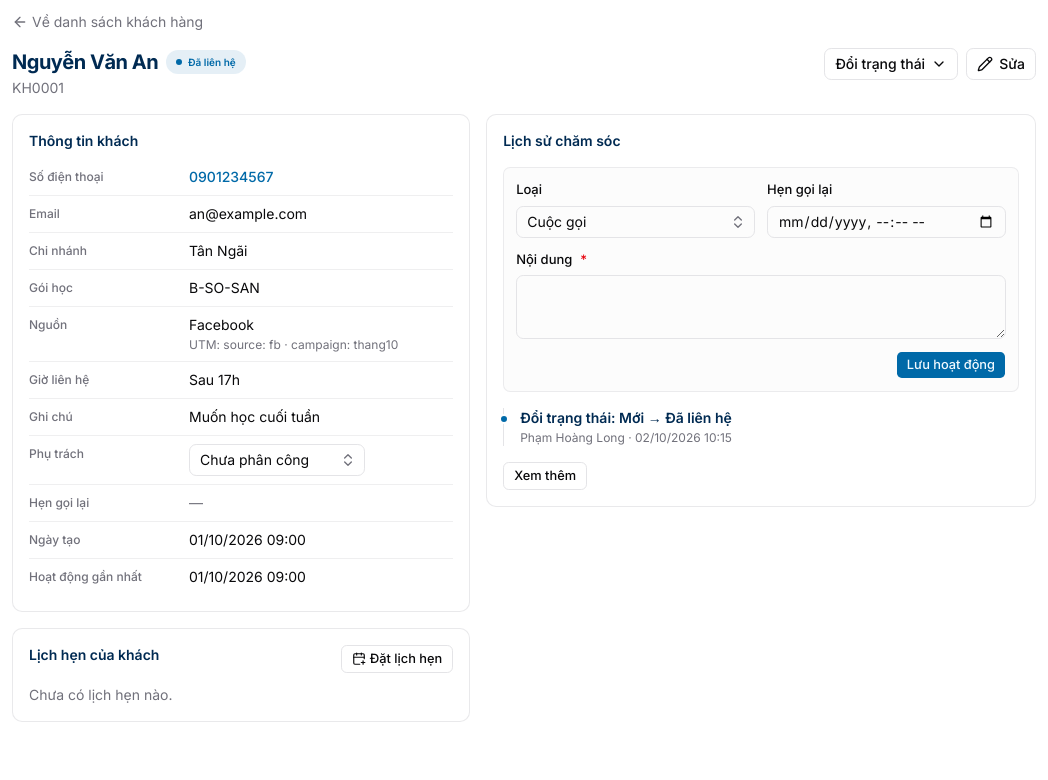
it: LeadDetail › lịch sử: trang sau lệch offset không hiển thị trùng hoạt động
Check: the text "Đổi trạng thái: Mới → Đã liên hệ" is shown, box [520,409,732,426]
Step 1. Click the button "Xem thêm" → (545, 476), box [503,462,587,490]
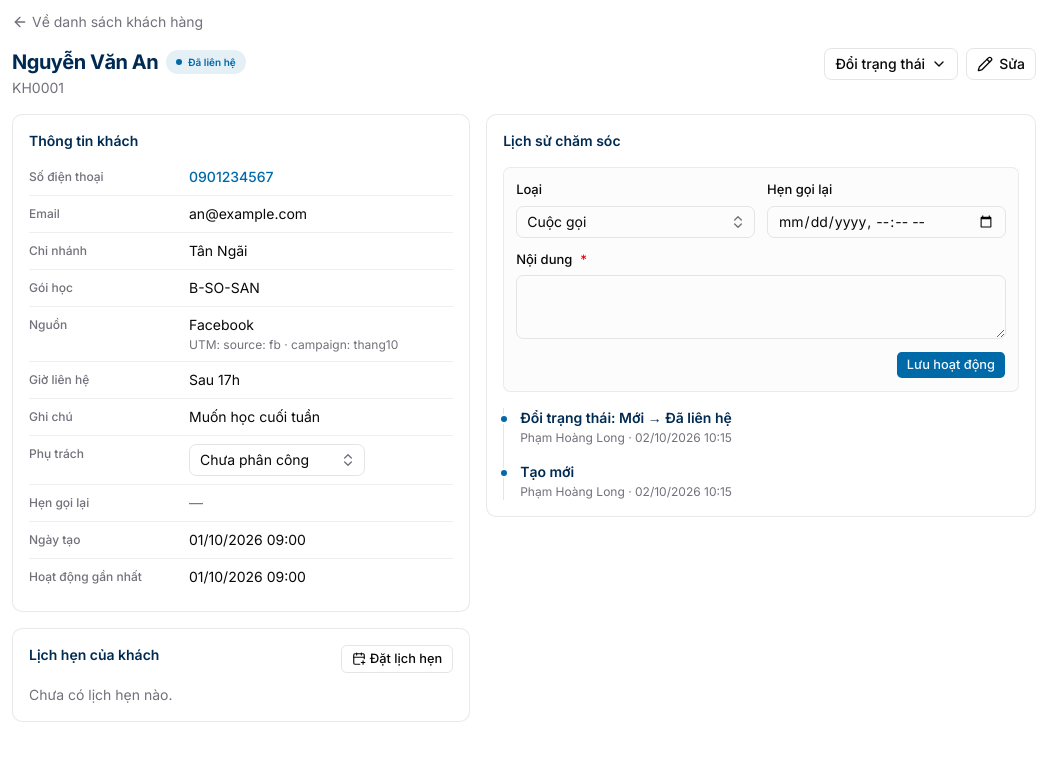
Check: the text "Tạo mới" is shown, box [520,463,574,480]
Check: the text "Đổi trạng thái: Mới → Đã liên hệ" is shown once, box [520,409,732,426]
